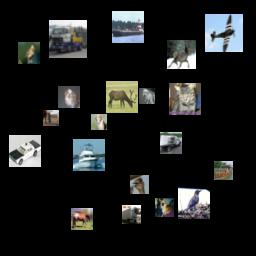airplane: (205, 14, 243, 52)
automobile: (9, 135, 41, 167)
bird: (178, 187, 210, 219), (18, 42, 40, 64), (130, 175, 149, 194)
cat: (169, 83, 201, 115)
deer: (106, 81, 138, 113), (167, 40, 196, 69)
dog: (58, 86, 80, 108), (155, 198, 174, 217), (91, 114, 107, 130), (139, 88, 155, 104)
ship: (112, 11, 144, 43), (73, 139, 105, 171), (214, 161, 233, 180)
truck: (49, 20, 87, 58), (160, 132, 182, 154), (122, 205, 141, 224)
